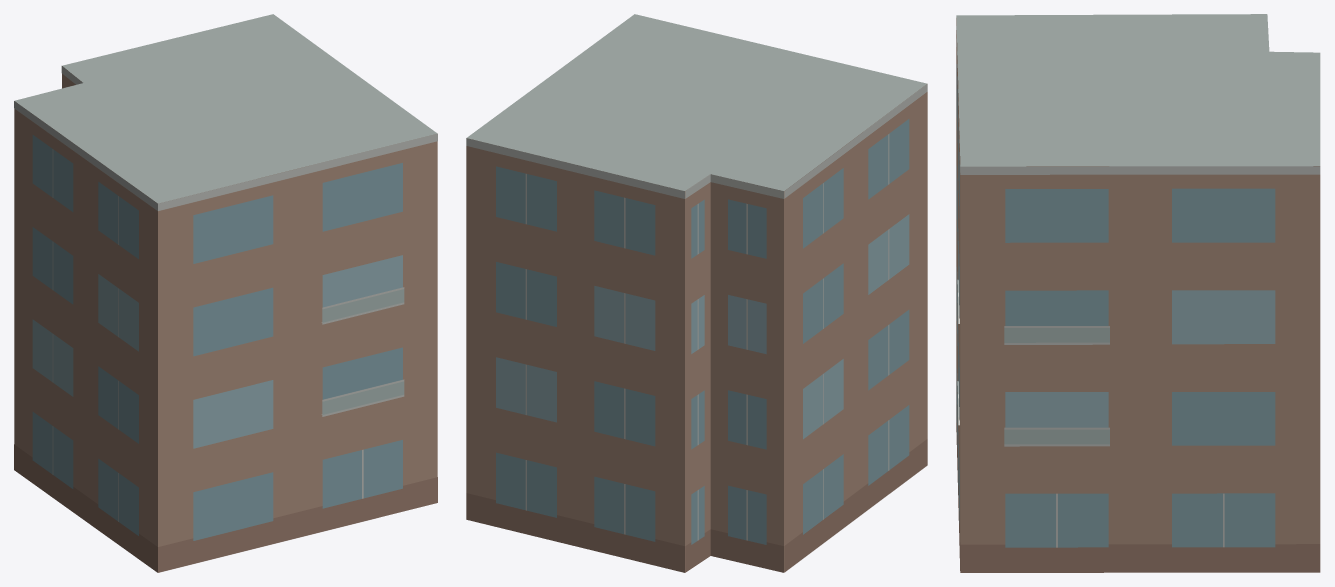
File: survey-upis-32988734.glb
3 views of the same model, side by side, from view 1: azimuth 30°, elevation 25°; view 2: azimuth 150°, elevation 25°; view 3: azimuth 270°, elevation 25° (orthographic). The views are drawn at different scales.
Visible parts, largest first — view 1: survey-upis-32988734.tmp; view 2: survey-upis-32988734.tmp; view 3: survey-upis-32988734.tmp.
Part boxes in pixels (bbox=[...]): survey-upis-32988734.tmp: bbox=[14, 14, 437, 572]; survey-upis-32988734.tmp: bbox=[466, 14, 927, 572]; survey-upis-32988734.tmp: bbox=[956, 14, 1320, 572].
Bounding box in the file's own units: 9.54 × 11.8 × 9.6.
